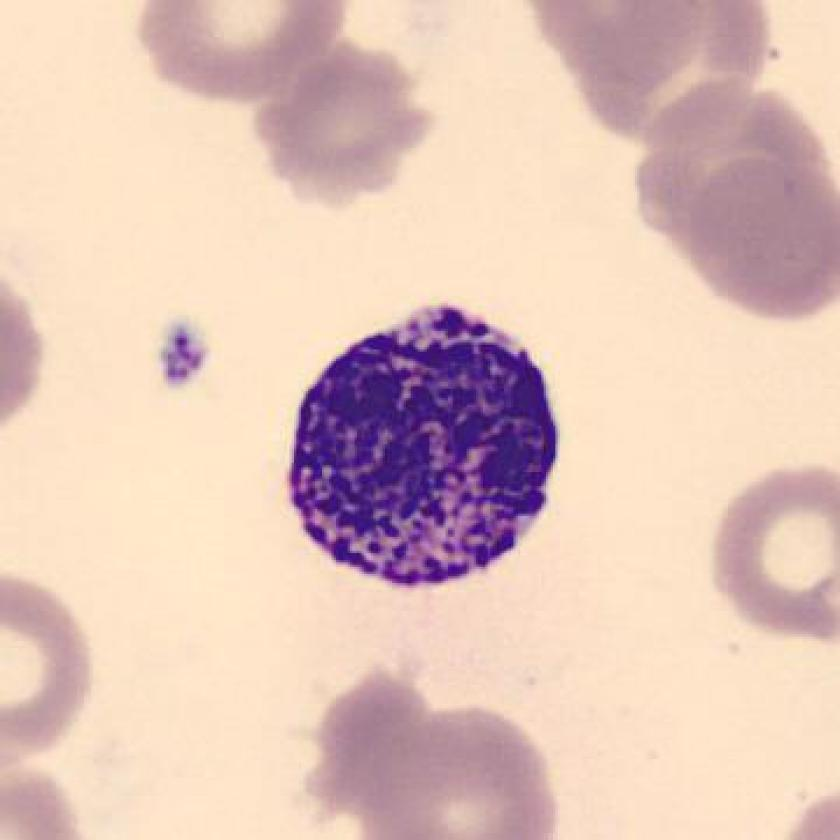basophil: (270, 295, 578, 605)
